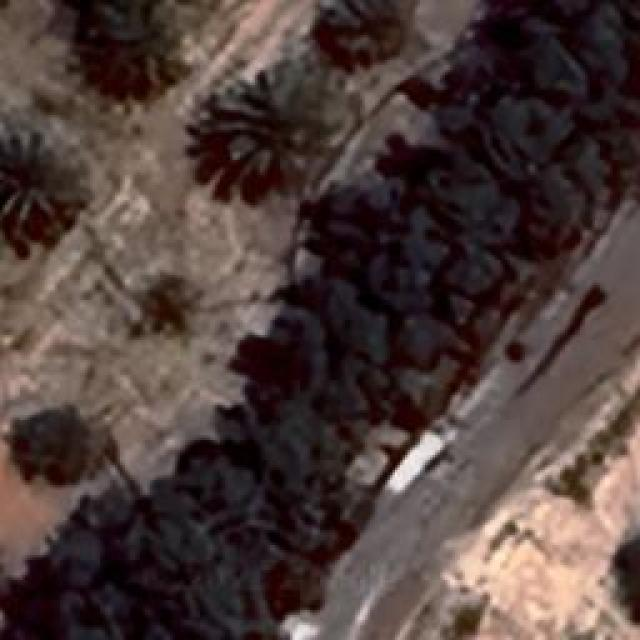PalmTree: (216, 74, 334, 188), (78, 0, 182, 95), (0, 142, 85, 236), (22, 408, 92, 494), (325, 0, 403, 65)
